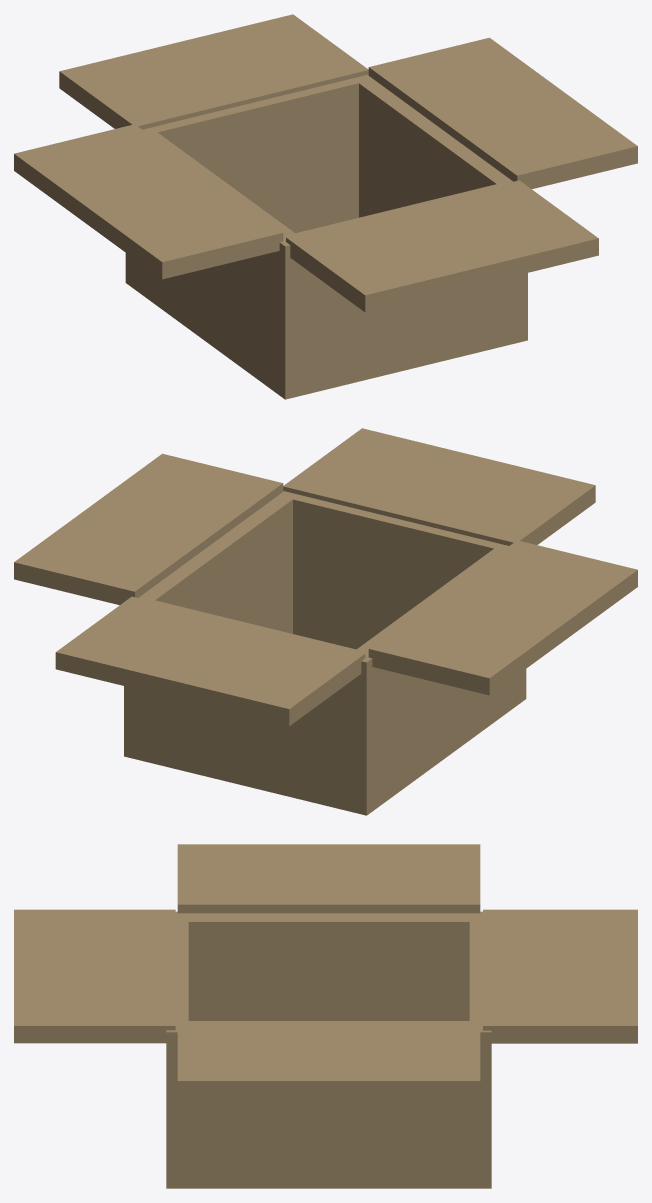
The picture shows the model from 3 angles, top to bottom: view 1: azimuth 30°, elevation 25°; view 2: azimuth 150°, elevation 25°; view 3: azimuth 270°, elevation 25°; orthographic projection.
Parts seen in each view (by area): view 1: BoxBase, BoxTop4, BoxTop2, BoxTop1, BoxTop3; view 2: BoxBase, BoxTop3, BoxTop2, BoxTop1, BoxTop4; view 3: BoxBase, BoxTop1, BoxTop4, BoxTop2, BoxTop3.
Part boxes in pixels (x1,y1,x2,y2): BoxBase: (125,74,527,399); BoxTop4: (286,180,598,312); BoxTop2: (14,124,283,279); BoxTop1: (368,37,637,188); BoxTop3: (59,14,368,129); BoxBase: (124,491,526,815); BoxTop3: (55,596,365,726); BoxTop2: (368,540,637,695); BoxTop1: (14,453,283,605); BoxTop4: (283,428,595,545); BoxBase: (166,911,491,1188); BoxTop1: (177,1021,480,1098); BoxTop4: (14,909,175,1043); BoxTop2: (177,844,480,913); BoxTop3: (483,909,637,1043).
Bounding box in the file's own units: 592 × 193 × 660.
